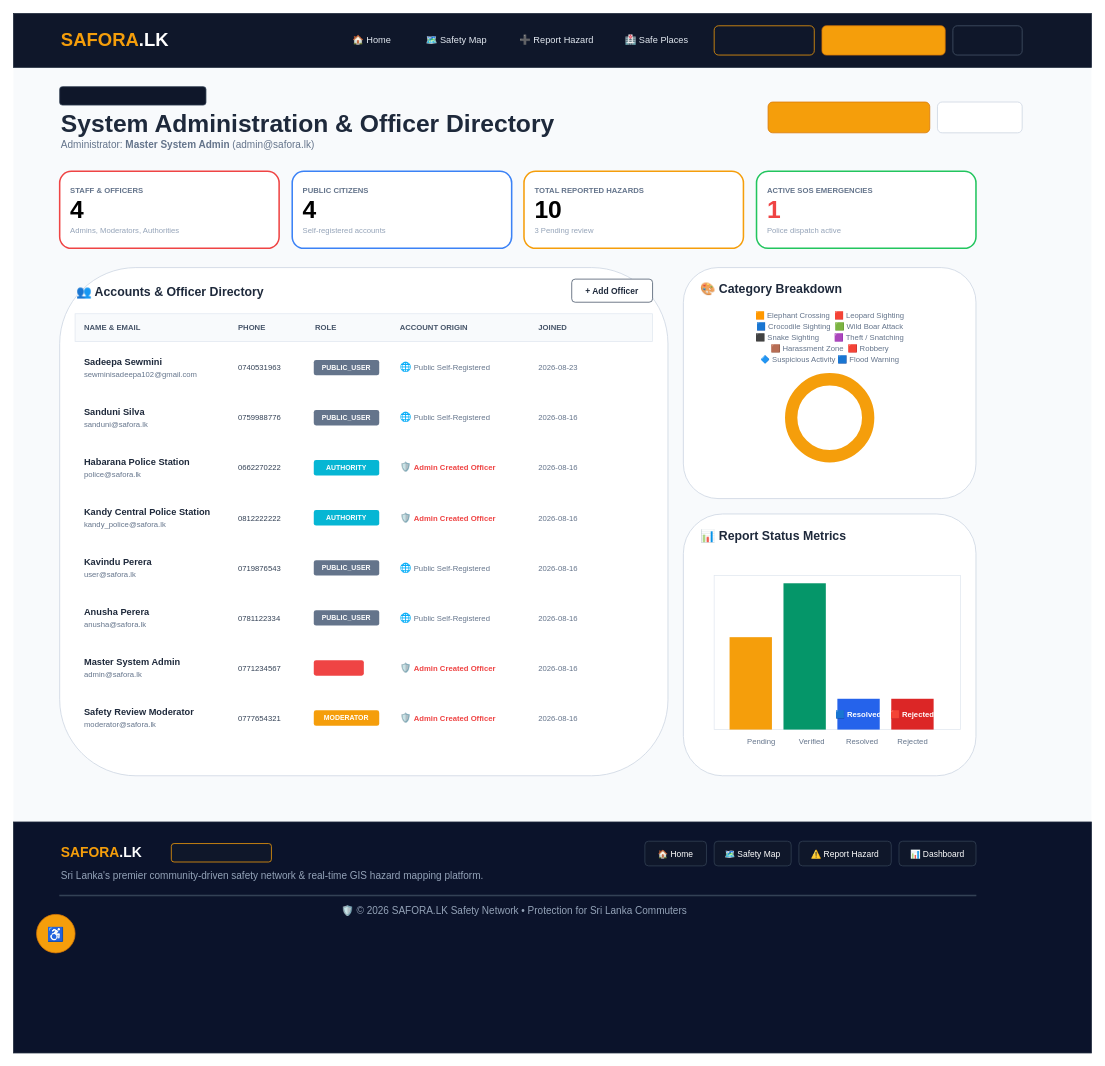
Image size: 1105x1066. Some labels were removed from this diagram. Each missing label, with the centre of its shape:
"(((•))) 24/7 AI SAFETY" belongs at point (221, 852).
"ADMIN" belongs at point (338, 667).
"🎛️ Dashboard (Admin)" belongs at point (883, 40).
"🏠 Public View" belongs at point (979, 117).
"👤 + Create Officer Account" belongs at point (848, 117).
"📞 SOS Contacts" belongs at point (763, 40).
"🚪 Logout" belongs at point (987, 40).
"🛡️ MASTER ADMIN CONSOLE" belongs at point (132, 95).
"🟧 Pending" belongs at point (750, 683).
"🟩 Verified" belongs at point (804, 656).
